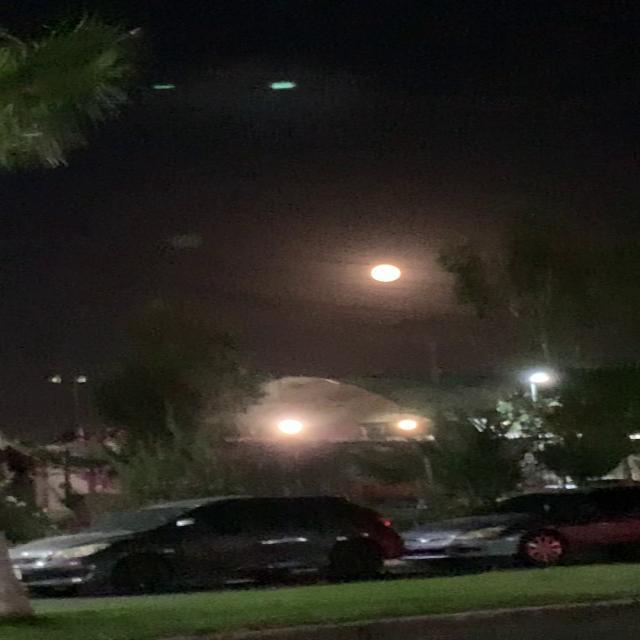moon: (357, 262, 410, 288)
